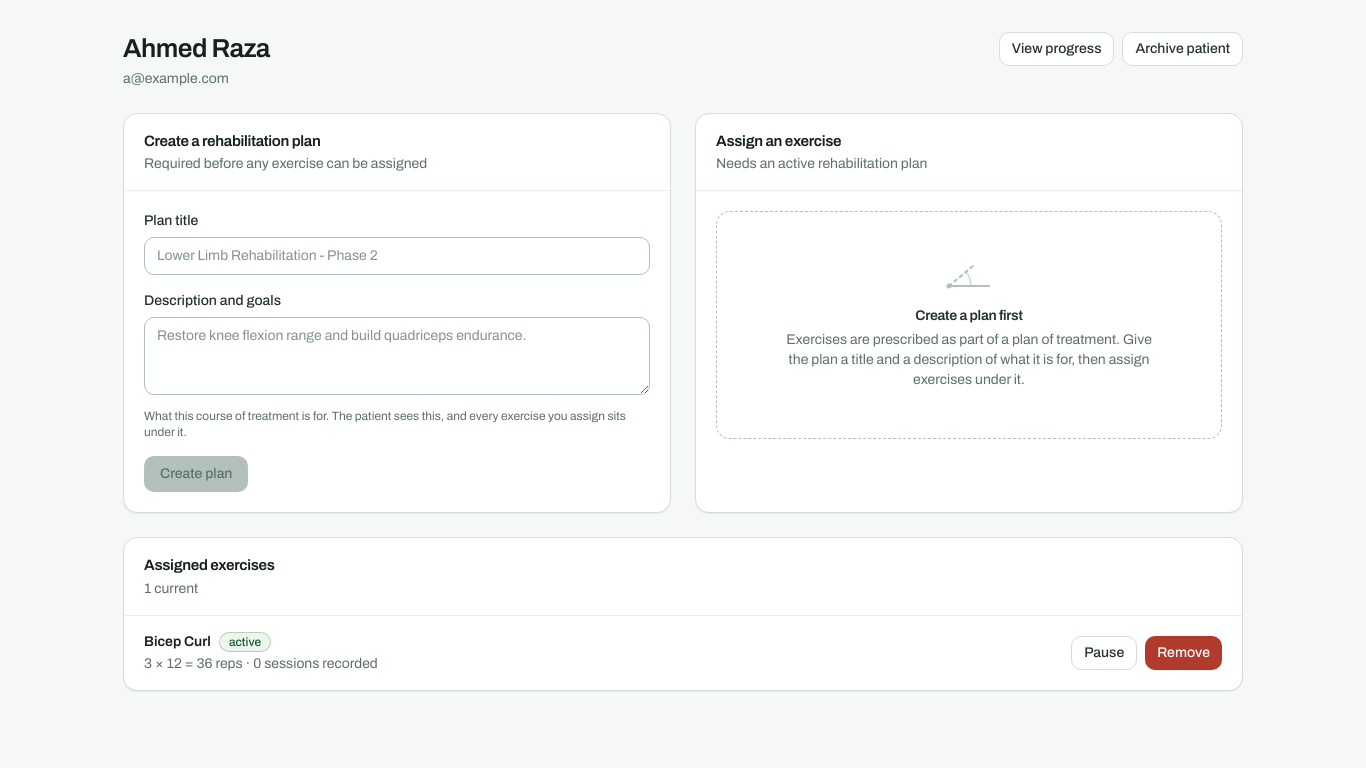
Test: Assignment actions › says DELETE when the assignment has no recorded sessions
Click the button "Remove": (1184, 652) [1145,636,1222,670]
(page scrolled)
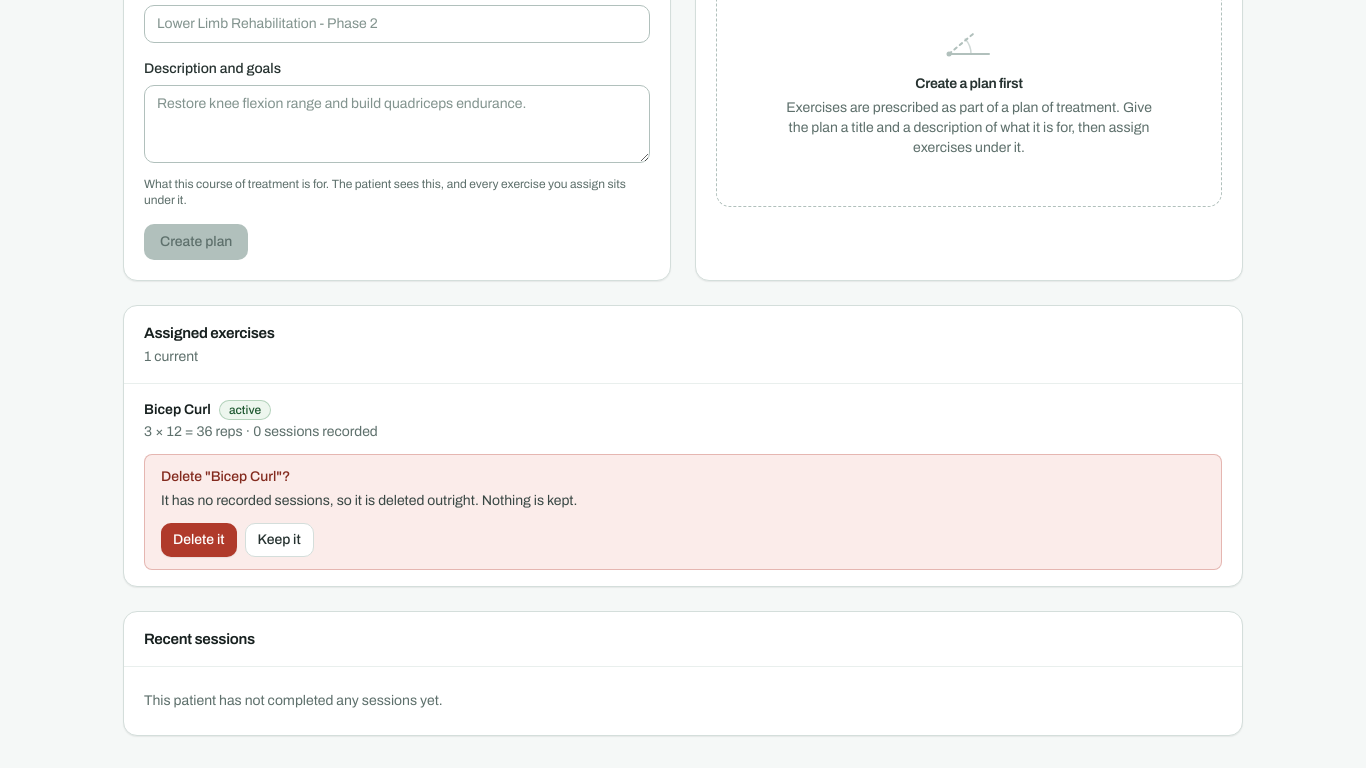
Result: the dialog shows "Delete \"Bicep Curl\"?" at [161,468,290,484]
Result: the dialog shows "deleted outright" at [161,492,577,508]
Result: the dialog shows "Nothing is kept" at [161,492,577,508]
